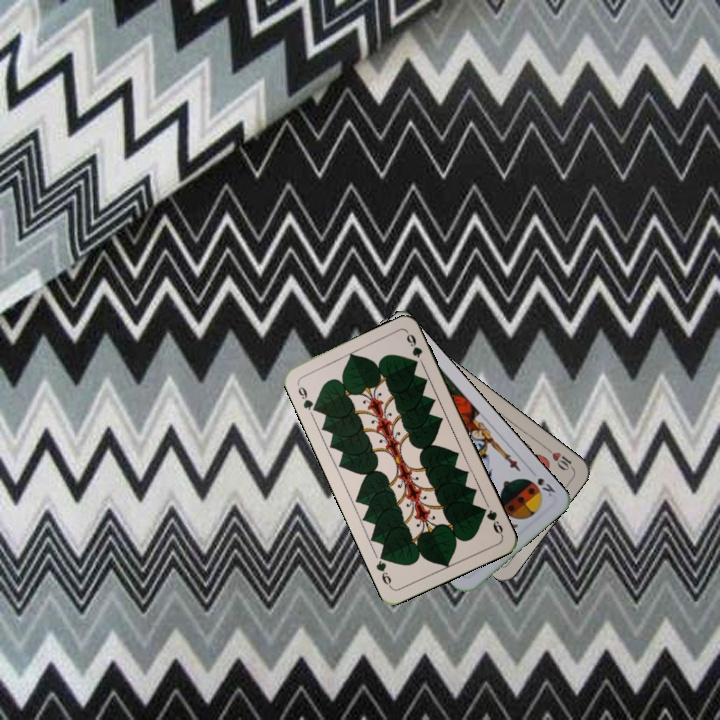G9: (477, 503, 506, 539), (293, 379, 321, 415)
H10: (541, 443, 576, 473)
SK: (533, 474, 558, 499)
